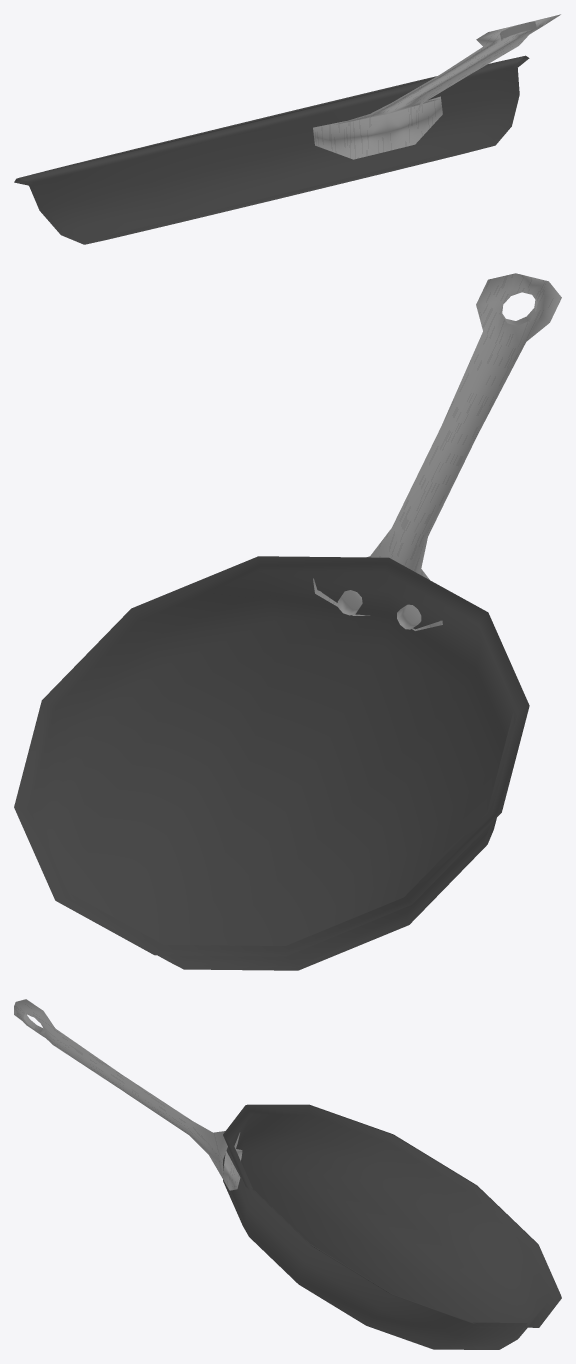
File: ps2_save-icons_petitfour.glb
3 views of the same model, one above another, from view 1: azimuth 30°, elevation 25°; view 2: azimuth 150°, elevation 25°; view 3: azimuth 270°, elevation 25° (orthographic). The views are drawn at different scales.
Visible parts, largest first — view 1: SAVE.ICO; view 2: SAVE.ICO; view 3: SAVE.ICO.
Part boxes in pixels (left/top/right/bottom): SAVE.ICO: left=14, top=14, right=560, bottom=244; SAVE.ICO: left=14, top=273, right=561, bottom=970; SAVE.ICO: left=14, top=999, right=561, bottom=1349.
Size of the model in its own units: 2.76 by 2.53 by 3.94.
1 material, 1 textured.
